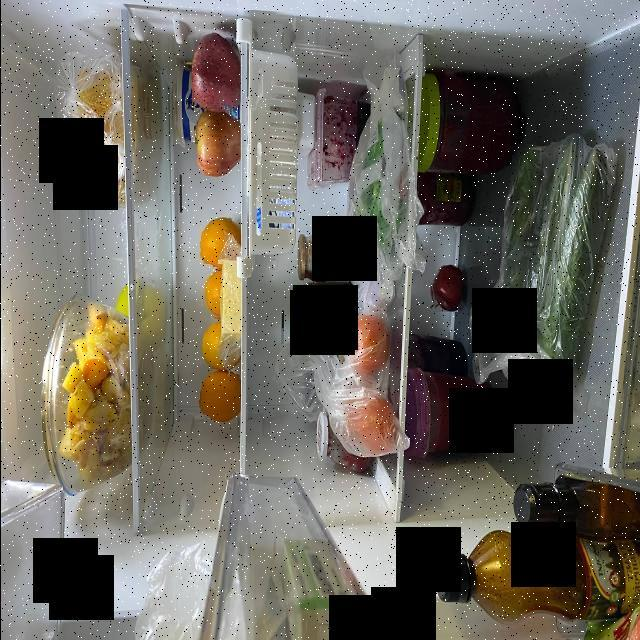Apple: (192, 29, 235, 119), (191, 108, 235, 176), (430, 266, 458, 312)
Cucumber: (540, 115, 610, 389), (544, 132, 575, 368), (504, 154, 533, 352)
Orange: (198, 374, 240, 416), (200, 215, 233, 265), (200, 266, 219, 318), (203, 326, 218, 370)
Tomato: (346, 313, 386, 379), (349, 398, 393, 452)
